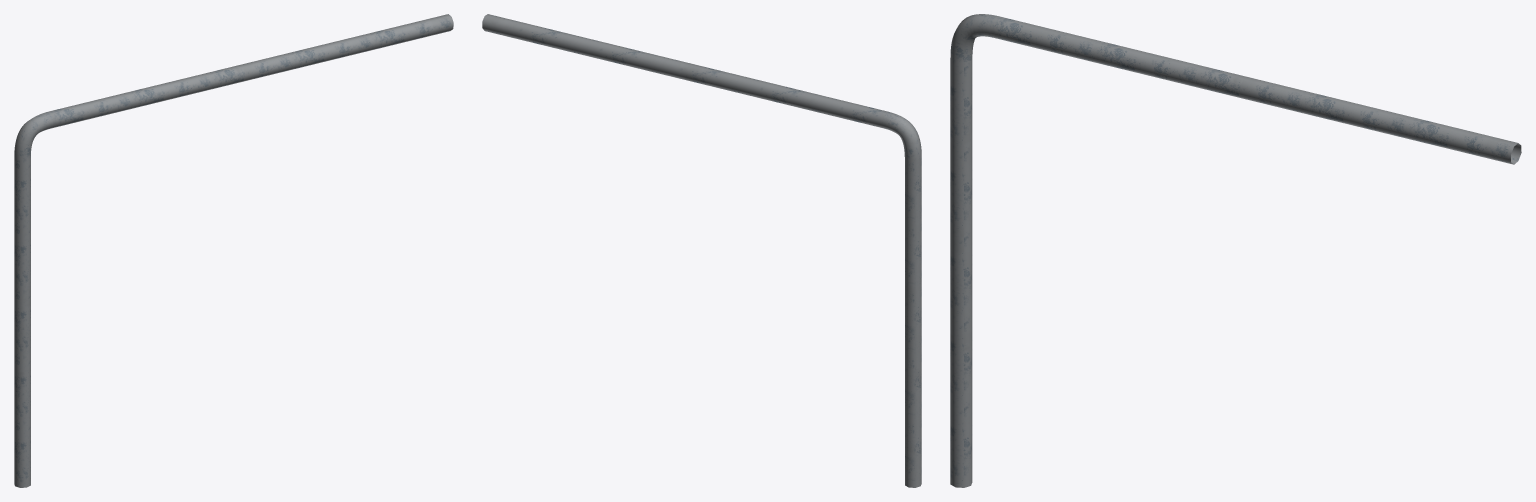
The picture shows the model from 3 angles, left to right: view 1: azimuth 30°, elevation 25°; view 2: azimuth 150°, elevation 25°; view 3: azimuth 330°, elevation 25°; orthographic projection. The views are drawn at different scales.
Parts seen in each view (by area): view 1: BarHorizontal3, BarVertical5, CornerR2; view 2: BarHorizontal3, BarVertical5, CornerR2; view 3: BarHorizontal3, BarVertical5, CornerR2.
Part boxes in pixels (x1,y1,x2,y2): BarHorizontal3: (48, 14, 453, 128); BarVertical5: (14, 157, 30, 487); CornerR2: (14, 112, 52, 160); BarHorizontal3: (482, 14, 888, 128); BarVertical5: (905, 157, 921, 487); CornerR2: (882, 112, 921, 160); BarHorizontal3: (990, 16, 1521, 164); BarVertical5: (950, 57, 972, 487); CornerR2: (950, 14, 996, 62).
Size of the model in its own units: 637 by 511 by 22.04.
Materials: 1 (1 with a texture image).
